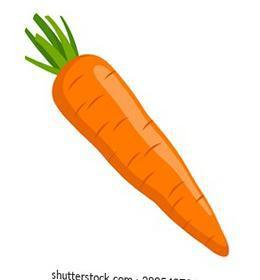carrot: (11, 4, 244, 257)
